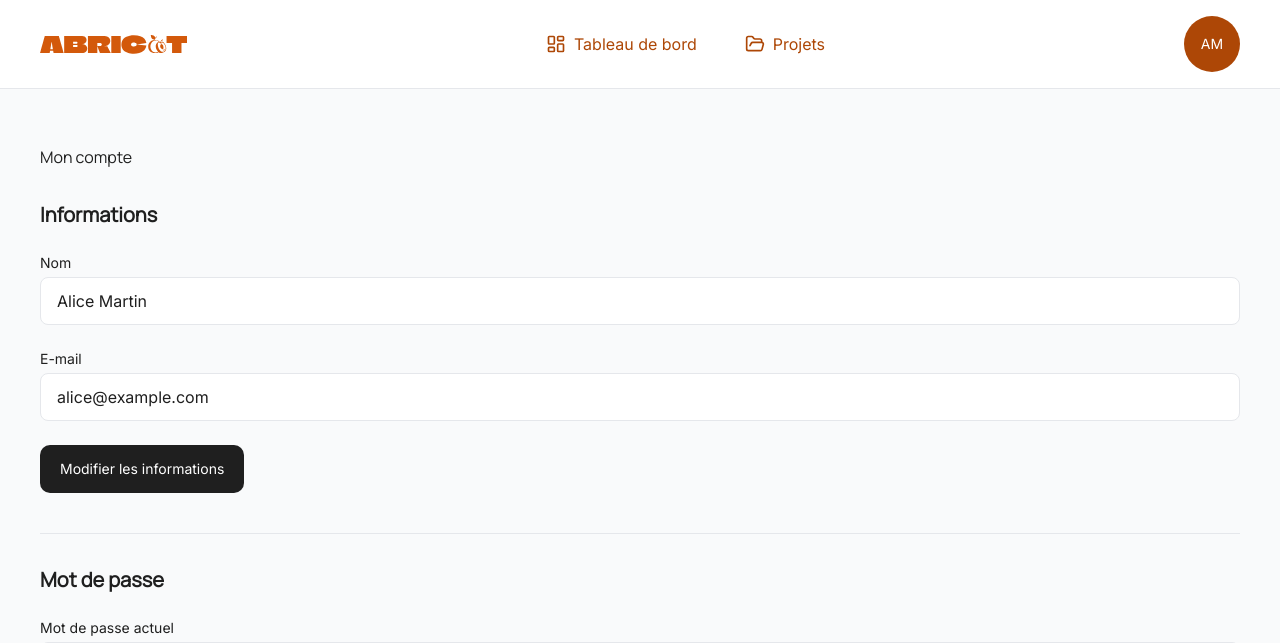
Test: account profile form › shares one initial profile request and refreshes the shell identity after an update
Check: the field labelled "E-mail" holds "alice@example.com", box x1=40 y1=373 x2=1240 y2=421
Check: the button with aria-label "Menu du compte" reads "AM", box x1=1184 y1=16 x2=1240 y2=72
Replace the text in the field labelled "Nom" with "  Alice Dupont  " at (640,301), box x1=40 y1=277 x2=1240 y2=325
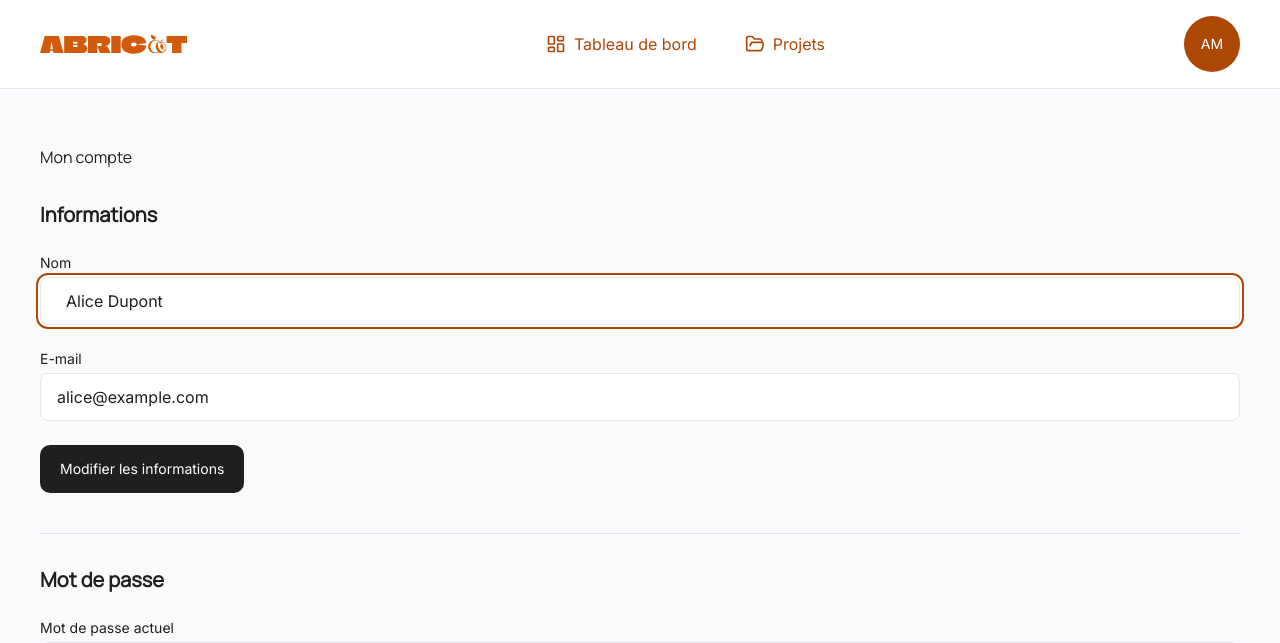
Replace the text in the field labelled "E-mail" with "updated@example.com" at (640,397), box x1=40 y1=373 x2=1240 y2=421
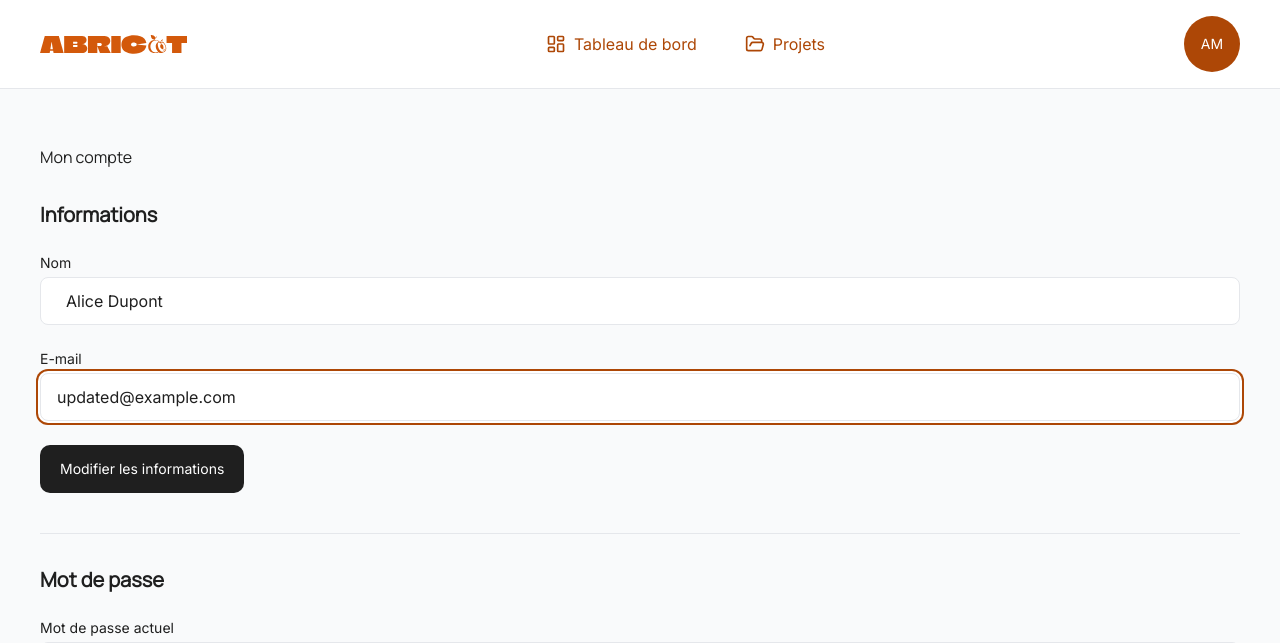
Click the button "Modifier les informations" at (142,469), box x1=40 y1=445 x2=244 y2=493
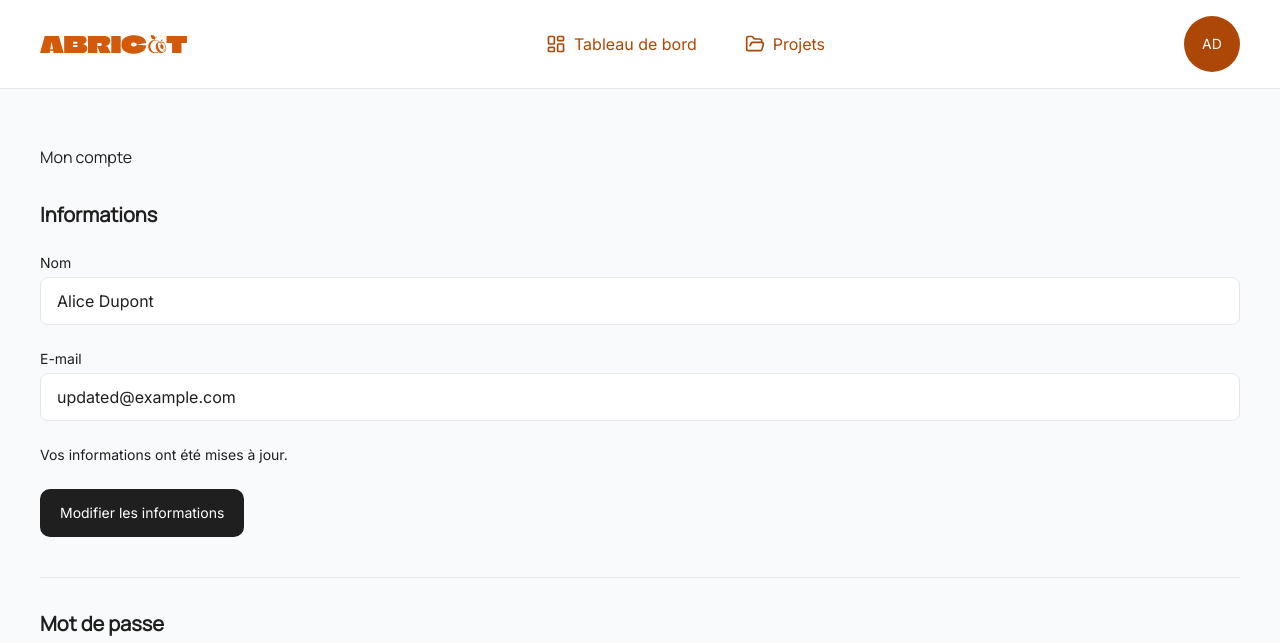
Check: the button with aria-label "Menu du compte" reads "AD", box x1=1184 y1=16 x2=1240 y2=72
